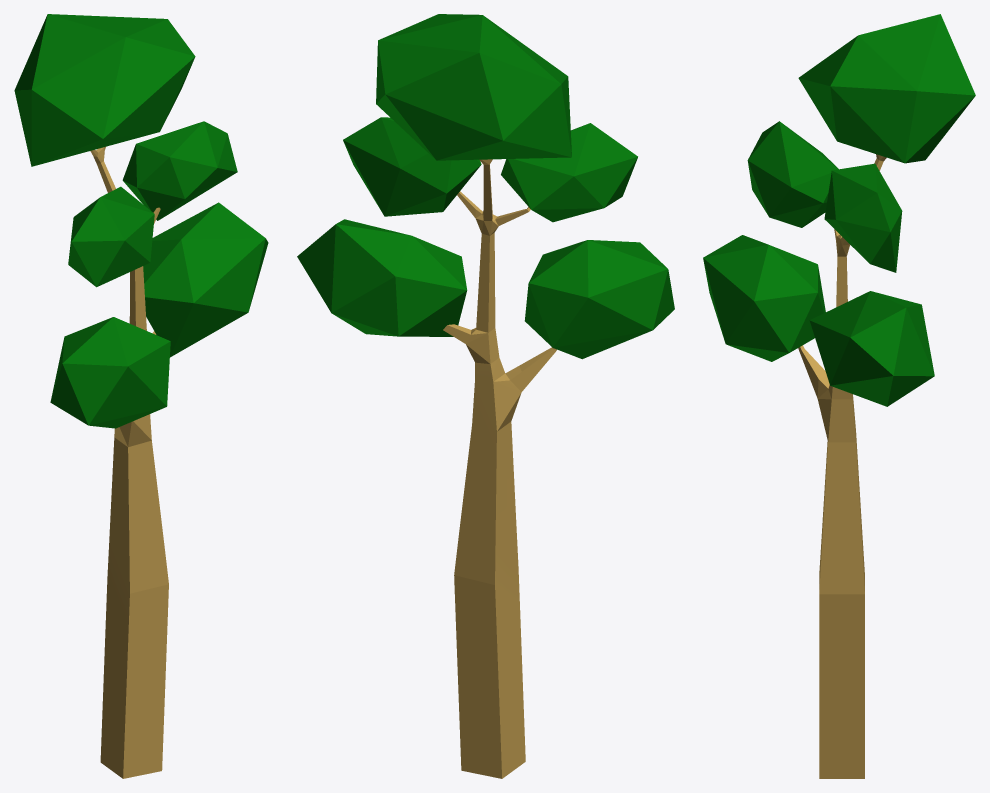
Rendered from Tree_04.fbx.
3 views of the same model, side by side, from view 1: azimuth 30°, elevation 25°; view 2: azimuth 150°, elevation 25°; view 3: azimuth 270°, elevation 25° (orthographic). The views are drawn at different scales.
Visible parts, largest first — view 1: Tree_04_LOD0; view 2: Tree_04_LOD0; view 3: Tree_04_LOD0.
Part boxes in pixels (bbox=[...]): Tree_04_LOD0: bbox=[14, 14, 268, 778]; Tree_04_LOD0: bbox=[297, 14, 674, 778]; Tree_04_LOD0: bbox=[703, 14, 975, 778].
Bounding box in the file's own units: 0.6728 × 2.01 × 0.8107.
